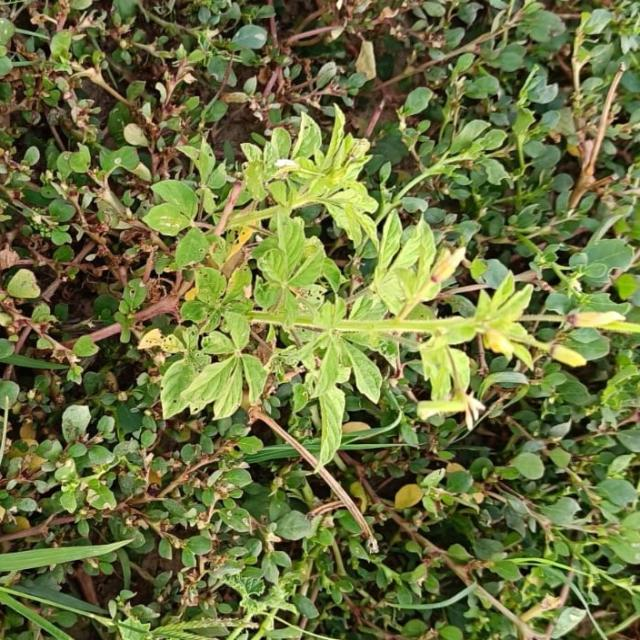weed: (140, 111, 585, 465)
